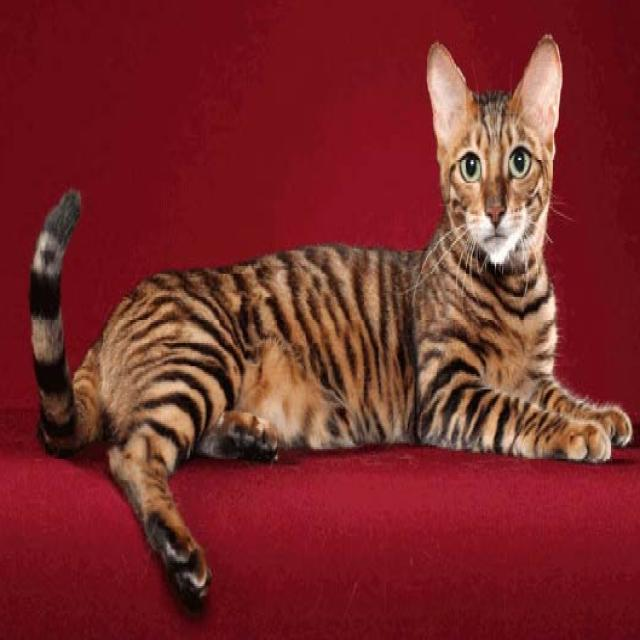Toyger: (21, 32, 634, 610)
